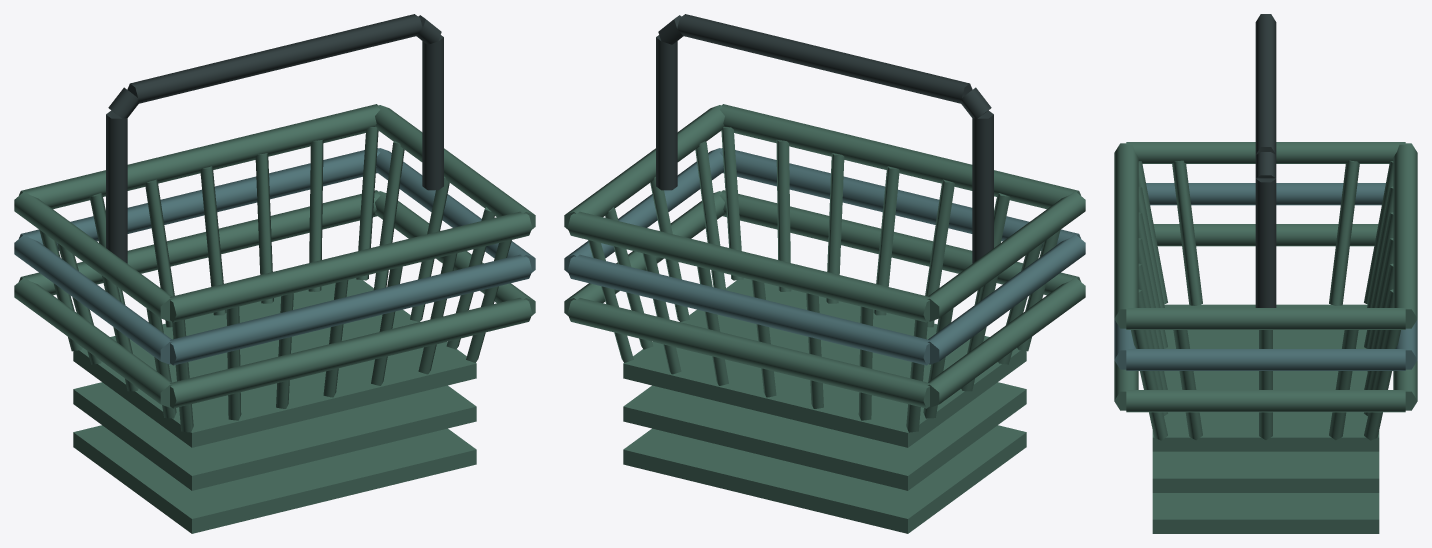
The picture shows the model from 3 angles, left to right: view 1: azimuth 30°, elevation 25°; view 2: azimuth 150°, elevation 25°; view 3: azimuth 270°, elevation 25°; orthographic projection. The views are drawn at different scales.
Parts seen in each view (by area): view 1: part-11, part-1, part-6, part-4, part-9, part-14, part-12, part-38, part-2, part-7, part-5, part-10 (+22 smaller); view 2: part-11, part-1, part-6, part-2, part-7, part-12, part-14, part-38, part-4, part-9, part-5, part-10 (+22 smaller); view 3: part-11, part-6, part-1, part-3, part-8, part-13, part-15, part-10, part-12, part-14, part-5, part-38 (+23 smaller).
Boxes of the visible parts, x1,y1,x2,y2 form: part-11: (73,278,476,447); part-1: (73,425,476,533); part-6: (73,382,476,490); part-4: (170,298,532,408); part-9: (170,254,532,365); part-14: (170,211,532,322); part-12: (19,104,380,209); part-38: (127,14,422,103); part-2: (19,190,380,295); part-7: (19,148,380,250); part-5: (14,278,172,407); part-10: (14,235,172,364); part-11: (623,278,1026,447); part-1: (623,425,1026,533); part-6: (623,382,1026,490); part-2: (567,298,929,408); part-7: (567,254,929,365); part-12: (567,211,929,322); part-14: (719,104,1080,209); part-38: (677,14,972,103); part-4: (719,190,1080,295); part-9: (719,148,1080,250); part-5: (927,278,1085,407); part-10: (927,235,1085,364); part-11: (1152,304,1379,451); part-6: (1152,451,1379,492); part-1: (1152,493,1379,533); part-3: (1126,390,1405,412); part-8: (1126,349,1405,370); part-13: (1126,308,1405,329); part-15: (1126,142,1405,163); part-10: (1146,183,1385,205); part-12: (1393,143,1417,328); part-14: (1114,143,1138,328); part-5: (1153,224,1378,246); part-38: (1255,14,1276,154).
Size of the model in its own units: 0.4742 by 0.4894 by 0.348.
